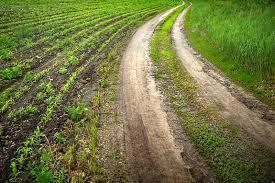vehicle_track: (118, 6, 215, 182), (172, 2, 275, 155)
